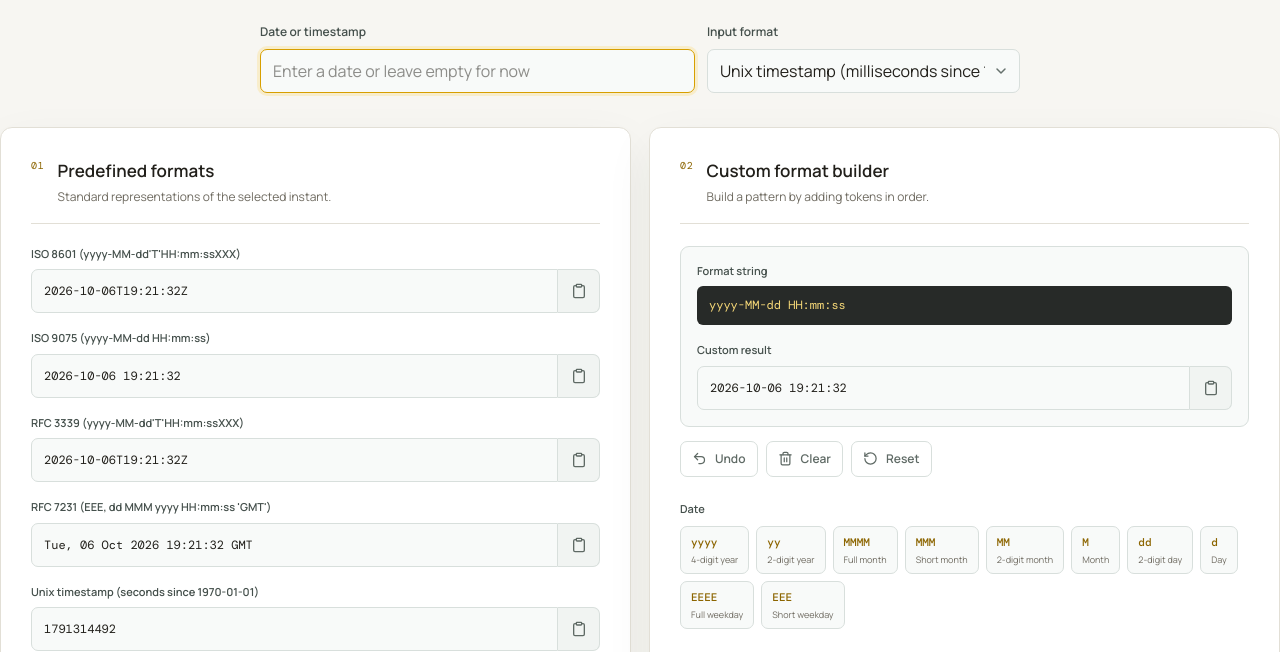
Test case: DateTimeConverterTool › auto-detects input and renders all predefined conversions
Type "2024-05-06T12:34:56Z" into the field labelled "Date or timestamp".
click(477, 71); type("2024-05-06T12:34:56Z")  # box [260, 49, 695, 93]
(page scrolled)
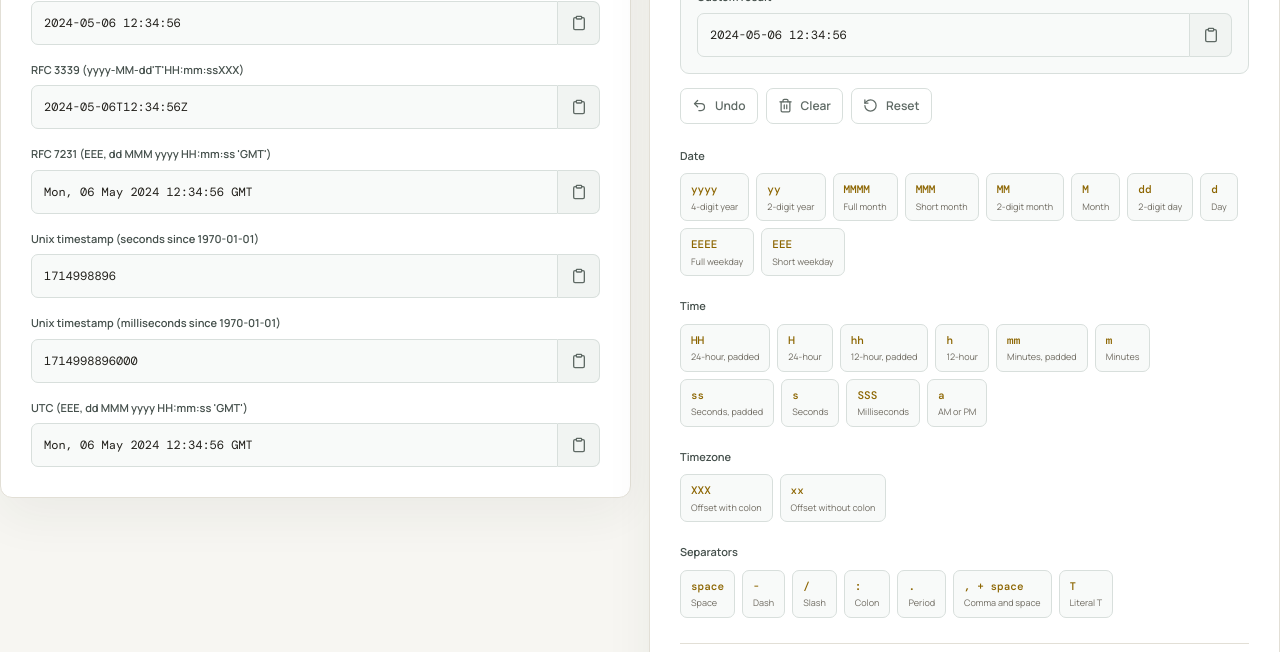
Now the field labelled "Unix timestamp (seconds since 1970-01-01)" holds "1714998896", box [31, 254, 558, 298]
Now the field labelled "Unix timestamp (milliseconds since 1970-01-01)" holds "1714998896000", box [31, 338, 558, 382]
